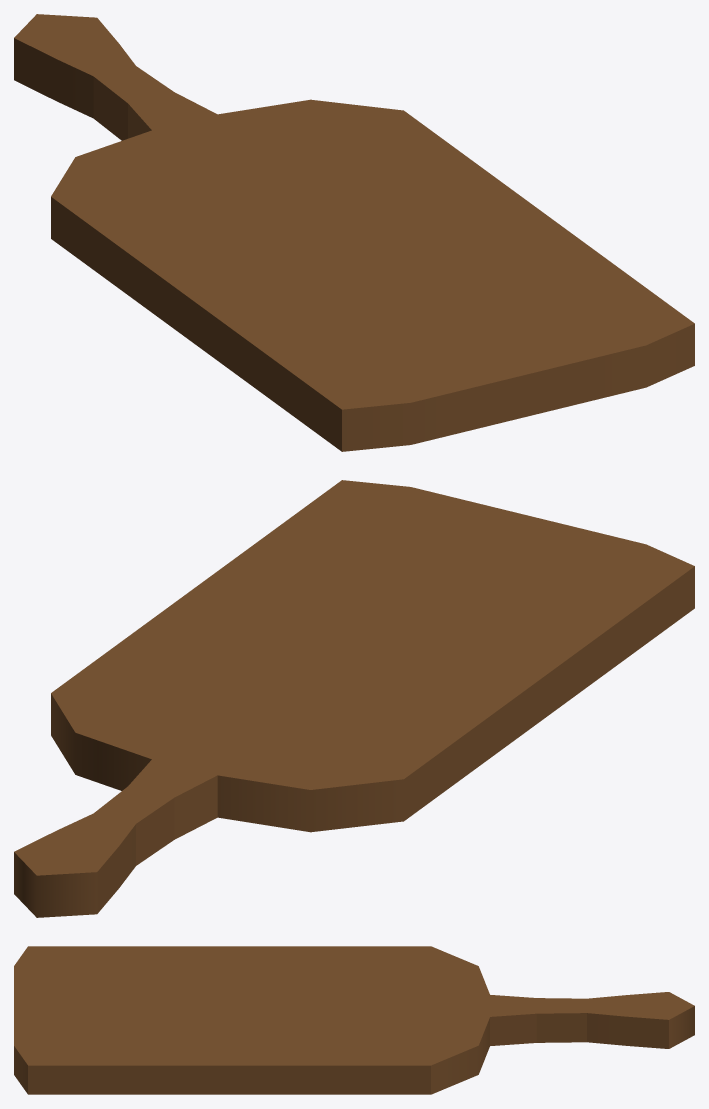
Rendered from Tabla_Picar_Low.fbx.
3 renders of one model, top to bottom at view 1: azimuth 30°, elevation 25°; view 2: azimuth 150°, elevation 25°; view 3: azimuth 270°, elevation 25°, orthographic. The views are drawn at different scales.
Parts seen in each view (by area): view 1: pCube1; view 2: pCube1; view 3: pCube1.
Boxes of the visible parts, box(x1,y1,x2,y2) form: pCube1: box(14, 14, 694, 451); pCube1: box(14, 480, 694, 917); pCube1: box(14, 946, 694, 1094).
Bounding box in the file's own units: 35 × 4.57 × 84.48.
